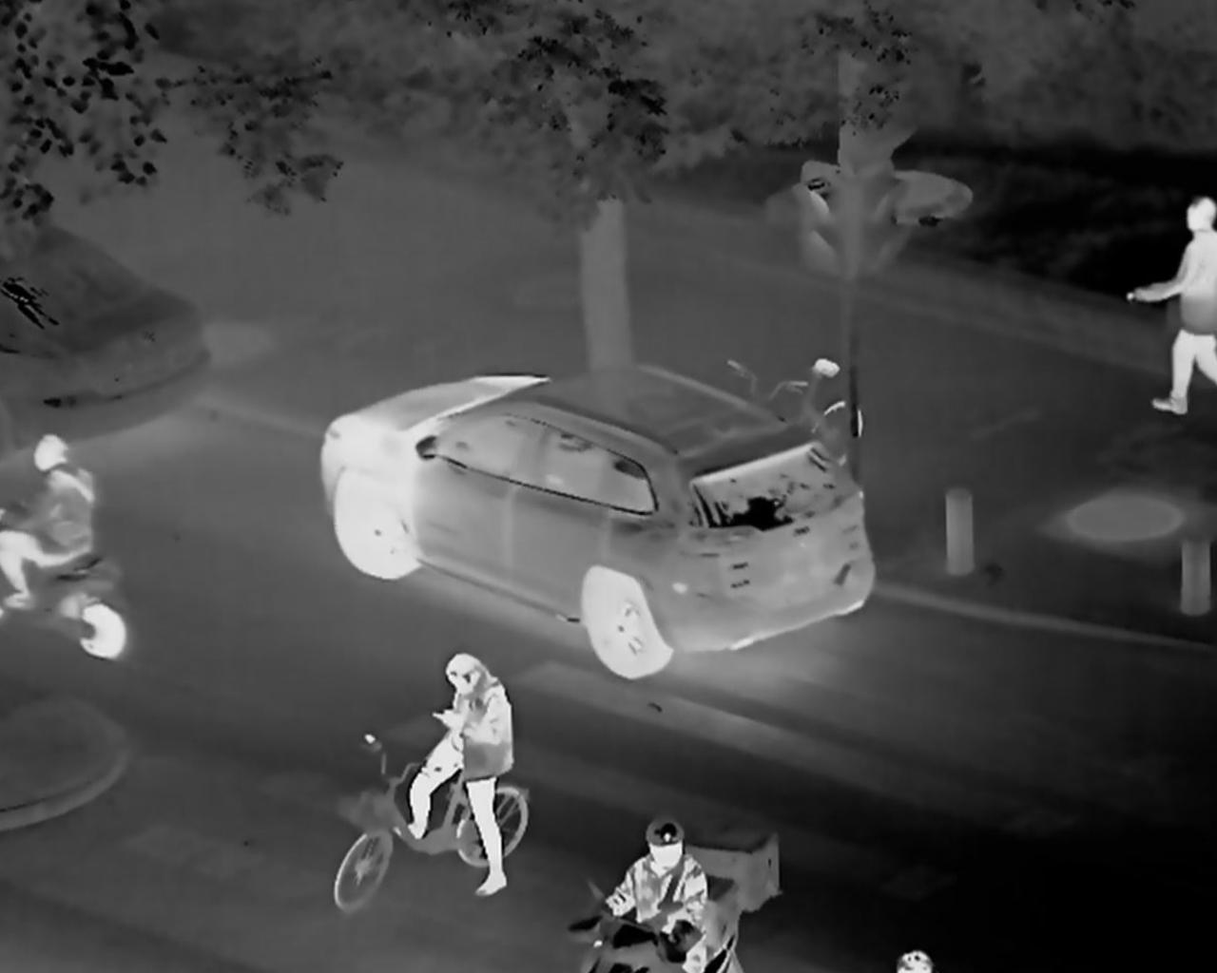person: (391, 650, 517, 896), (572, 824, 708, 973), (1130, 198, 1217, 414)
